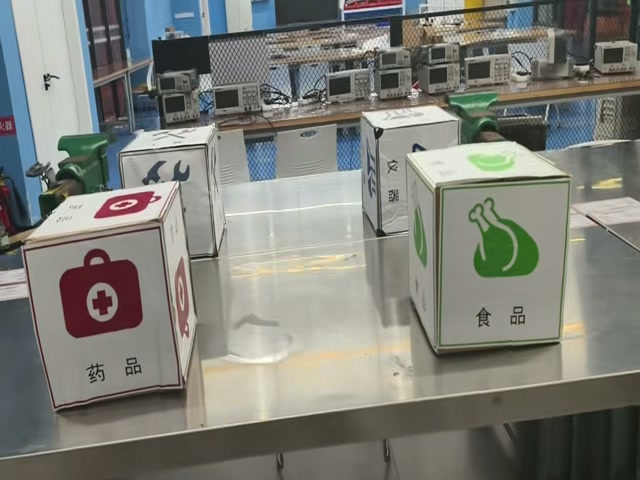Cube_food: (407, 142, 568, 196)
Cube_ins: (362, 106, 459, 135)
Cube_medicine: (23, 182, 178, 254)
Cube_tool: (119, 126, 216, 153)
